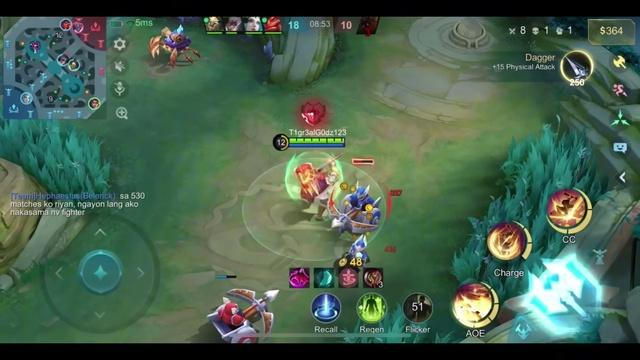Adc_Aliado: (61, 18, 71, 31)
Adc_Enemigo: (71, 21, 82, 34)
Arbusto: (458, 127, 611, 303), (0, 122, 108, 196), (453, 223, 536, 301)
Cangrejo_Exp: (148, 26, 199, 66)
Esbirro_Aliado: (205, 288, 276, 342)
Esbirro_Enemigo: (329, 182, 385, 234), (340, 234, 370, 264)
Exp_Enemigo: (89, 99, 101, 110)
HP_Heroe_Principal: (288, 138, 344, 143)
Jungla_Aliado: (57, 53, 69, 67)
Mana: (288, 143, 347, 147)
Mid_Aliado: (20, 93, 34, 105)
Minimapa: (0, 19, 102, 121)
Roamer_Aliado: (68, 59, 82, 71)
Skill1: (454, 285, 499, 329)
Skill2: (486, 221, 529, 260)
Tigreal: (296, 160, 342, 210)
Torre_destruida: (447, 18, 487, 49)
skill3: (547, 188, 590, 230)
